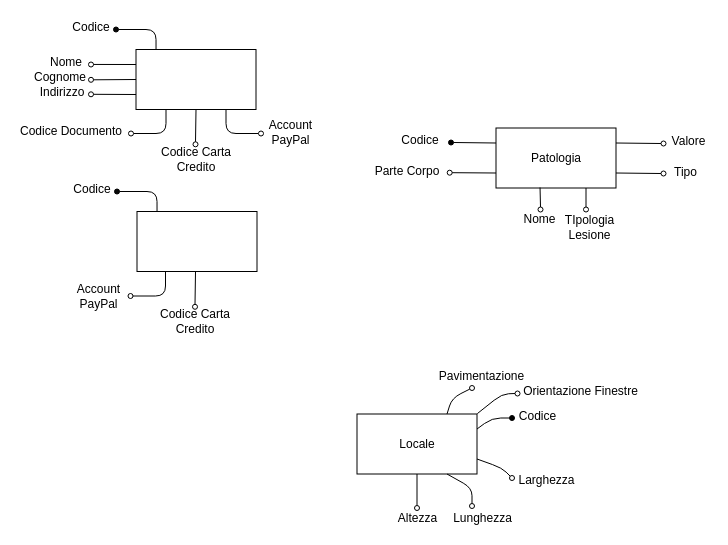
Image size: 728x545. Some labels were removed from this diagram. Each missing label, with the centre of its shape:
"Cliente Non Registrato" goes at (196,241).
"Cliente Registrato" goes at (195,79).
